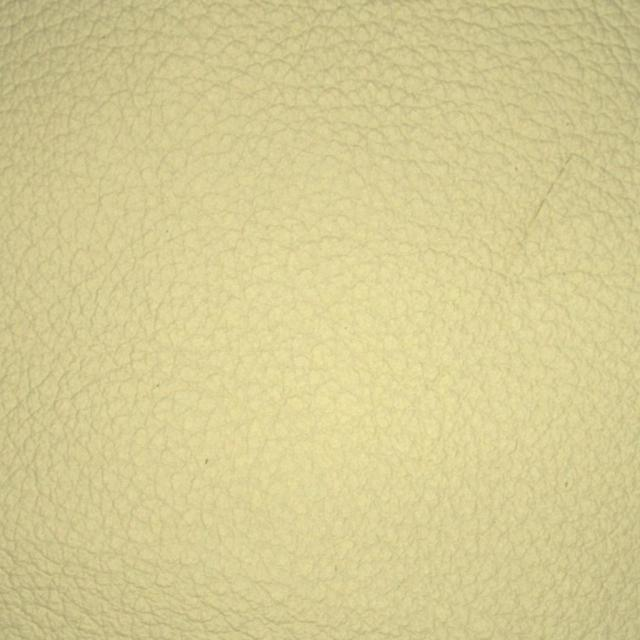Scratch: (488, 104, 606, 304)
